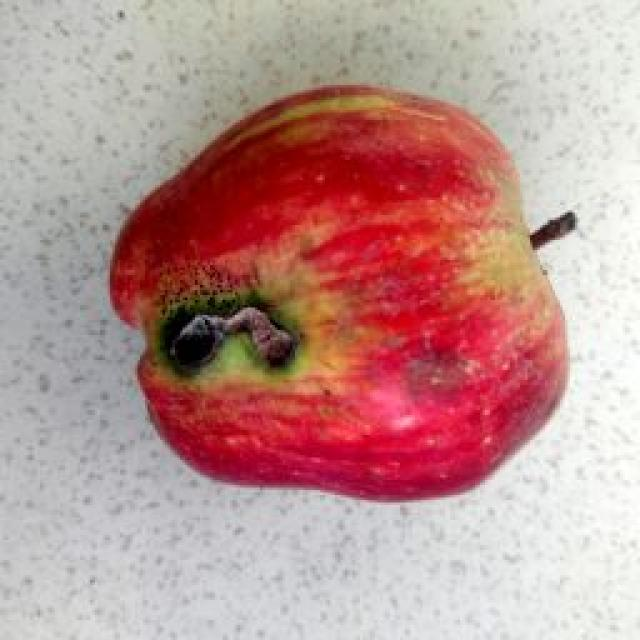Bad_Apple: (112, 88, 566, 498)
